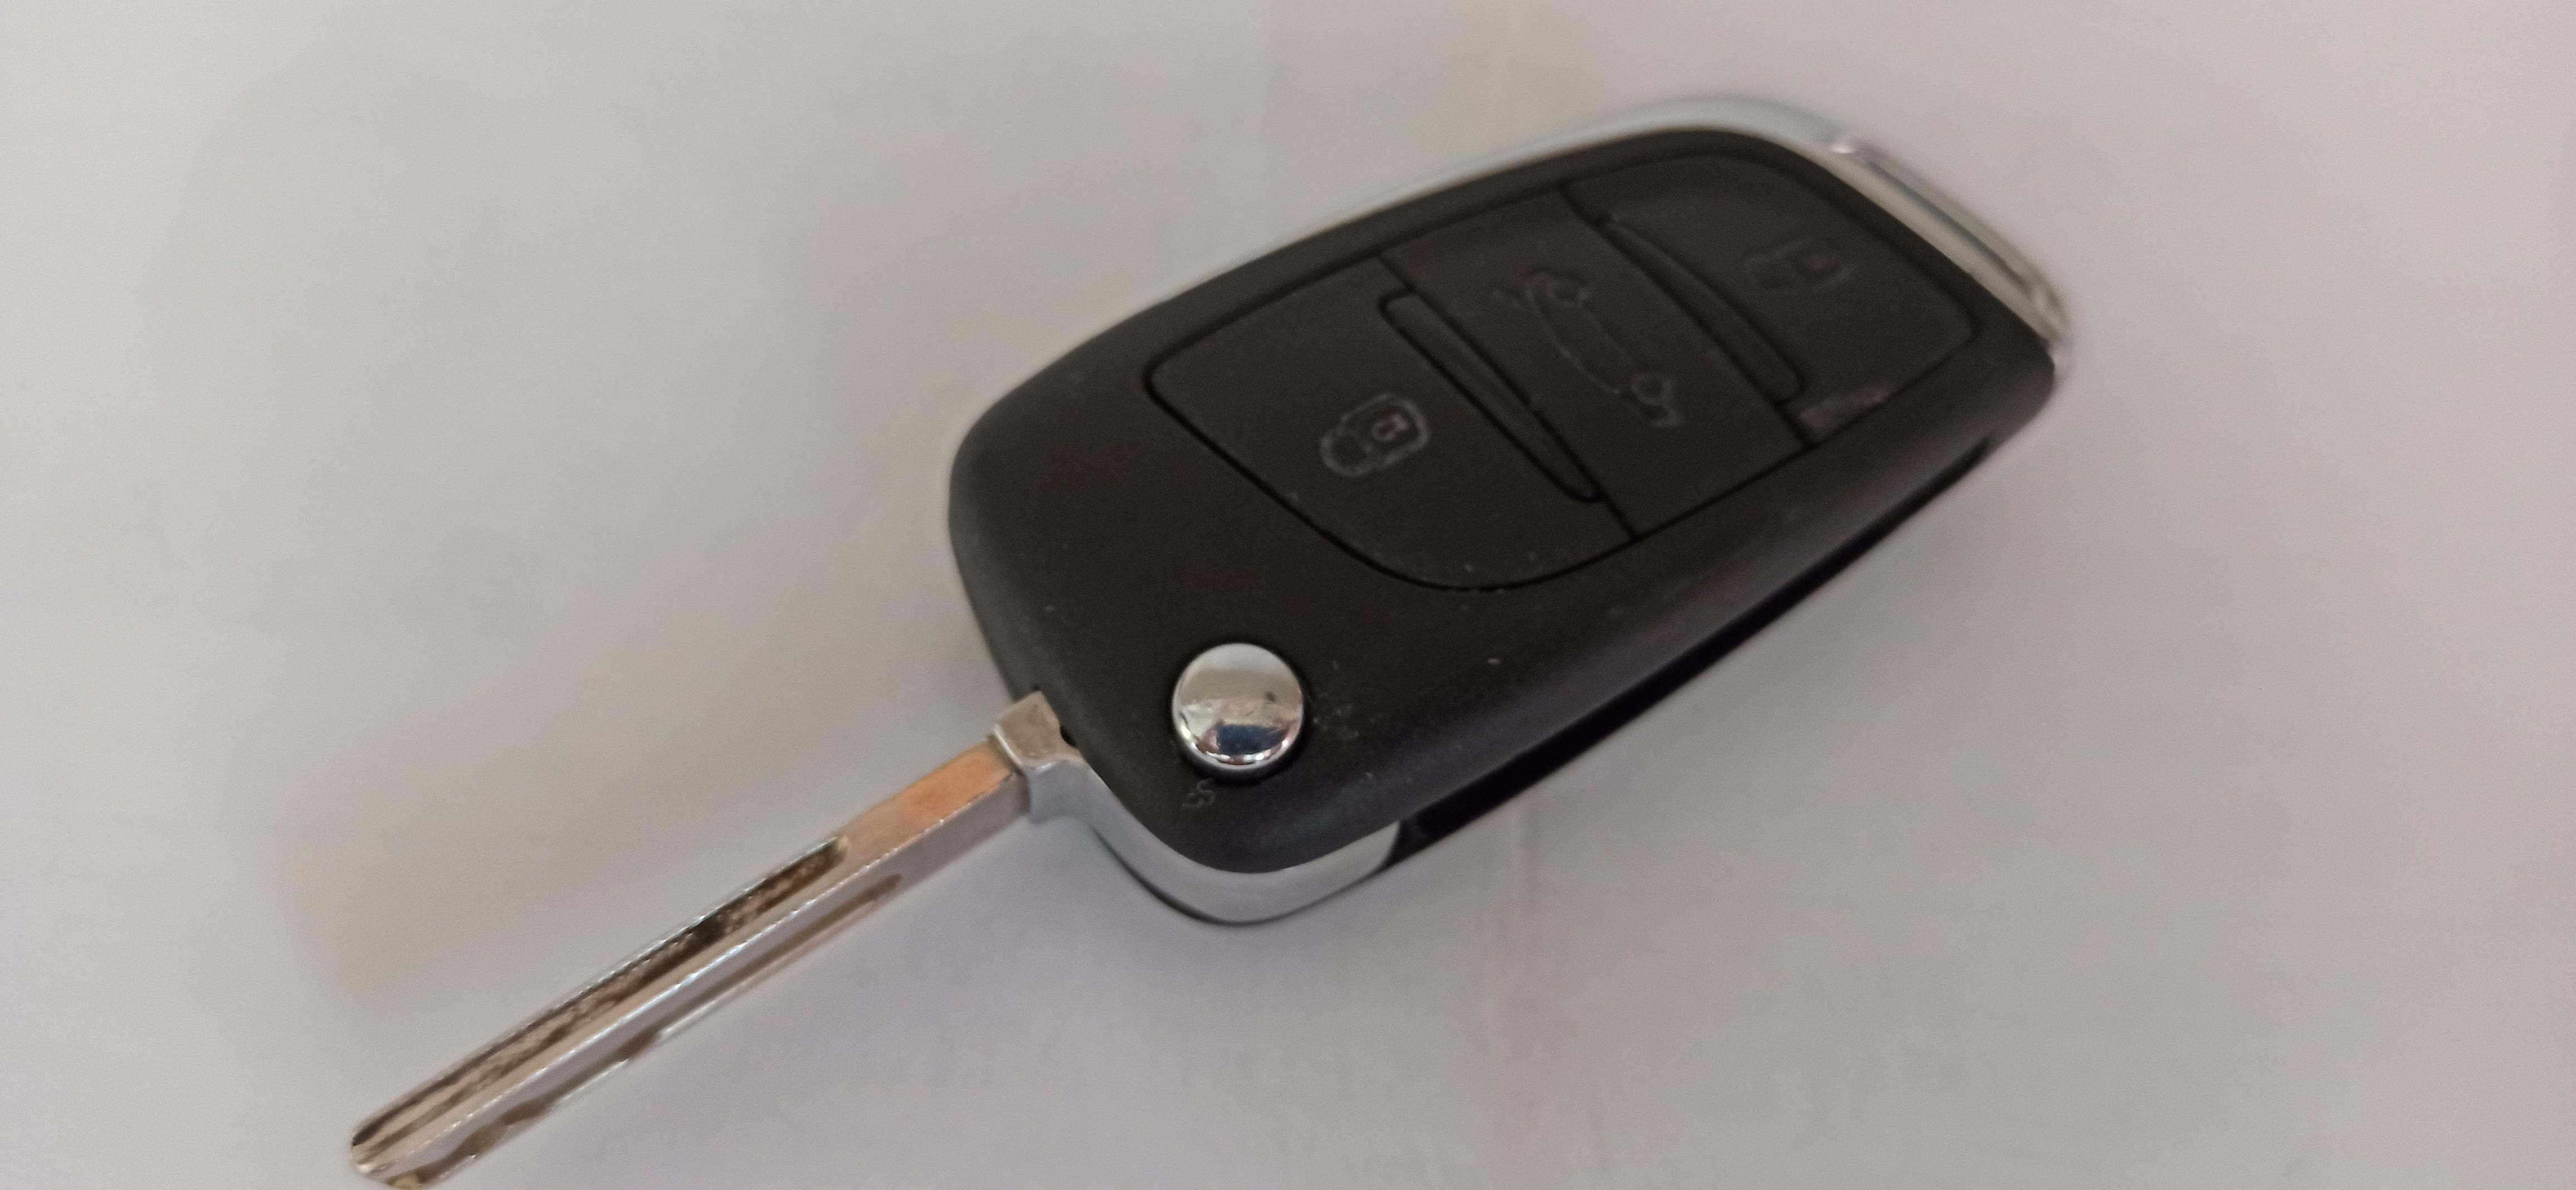key: (253, 72, 2114, 1190)
